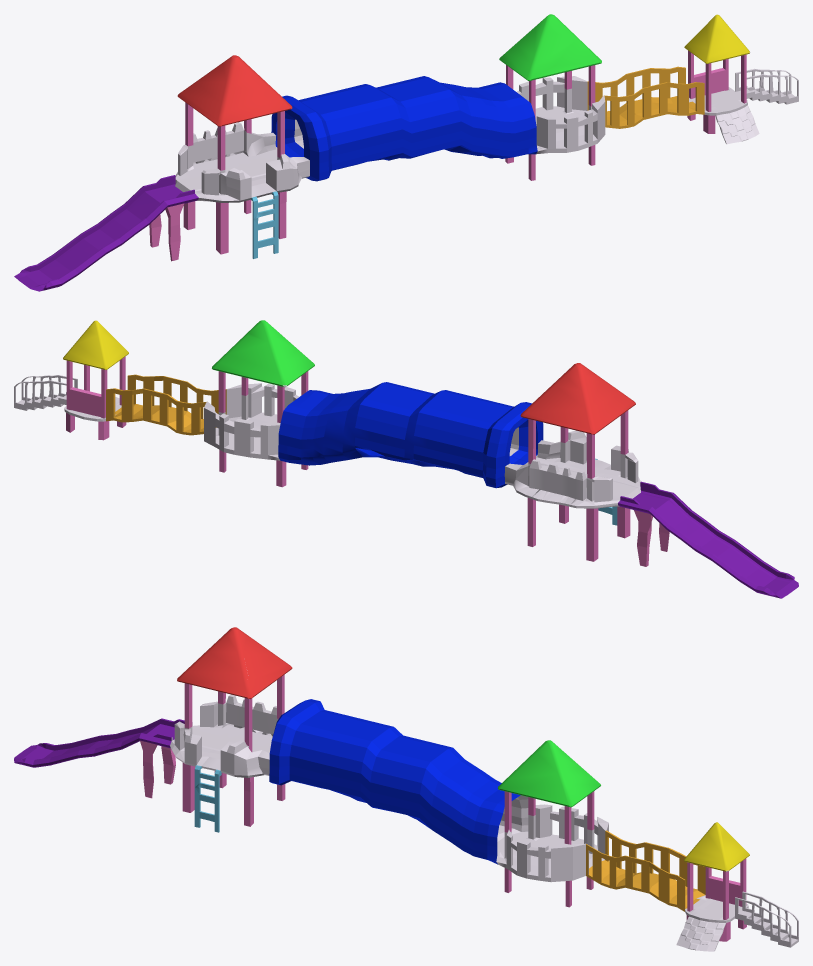
Rendered from Unfamialiar playground_HT.fbx.
3 views of the same model, one above another, from view 1: azimuth 30°, elevation 25°; view 2: azimuth 150°, elevation 25°; view 3: azimuth 330°, elevation 25° (orthographic).
Parts seen in each view (by area): view 1: Pyramid003; view 2: Pyramid003; view 3: Pyramid003.
Boxes of the visible parts, <box> form: Pyramid003: <box>14,14,798,291</box>; Pyramid003: <box>14,320,798,598</box>; Pyramid003: <box>14,627,798,951</box>.
Size of the model in its own units: 4916 by 1119 by 624.
